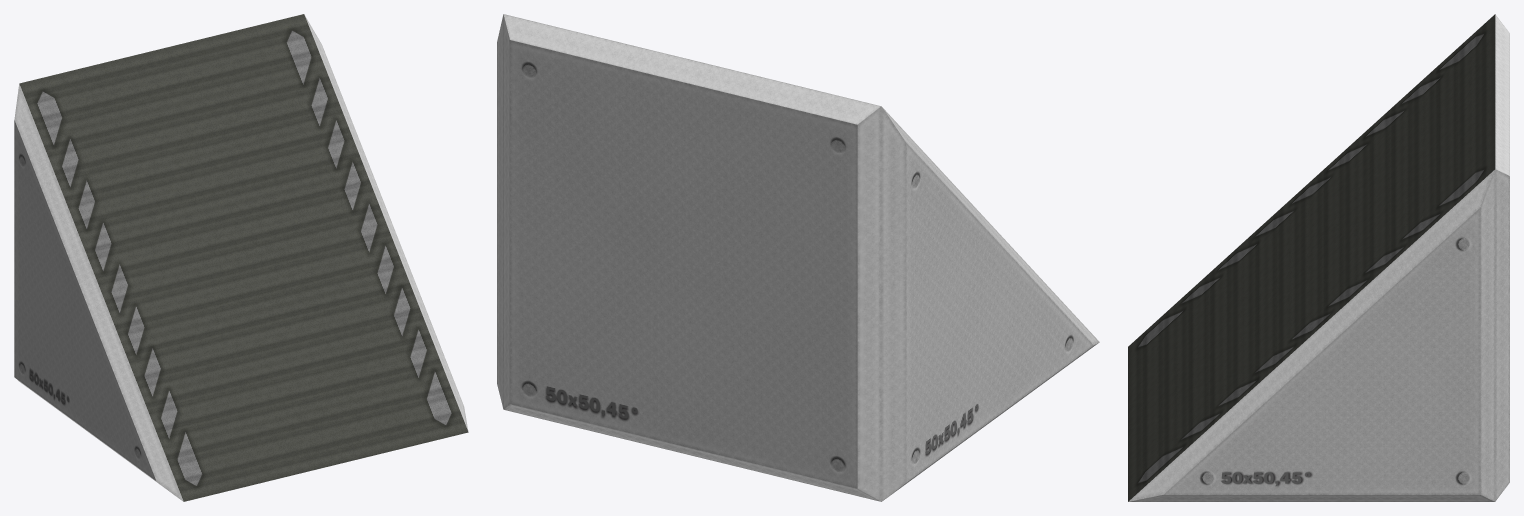
Rendered from ramp45.FBX.
3 views of the same model, side by side, from view 1: azimuth 30°, elevation 25°; view 2: azimuth 150°, elevation 25°; view 3: azimuth 270°, elevation 25° (orthographic). The views are drawn at different scales.
Parts seen in each view (by area): view 1: Line02; view 2: Line02; view 3: Line02.
Part boxes in pixels (bbox=[...]): Line02: bbox=[14, 14, 468, 501]; Line02: bbox=[497, 14, 1099, 501]; Line02: bbox=[1128, 14, 1509, 501].
Size of the model in its own units: 54 by 50 by 52.
Materials: 1 (1 with a texture image).
